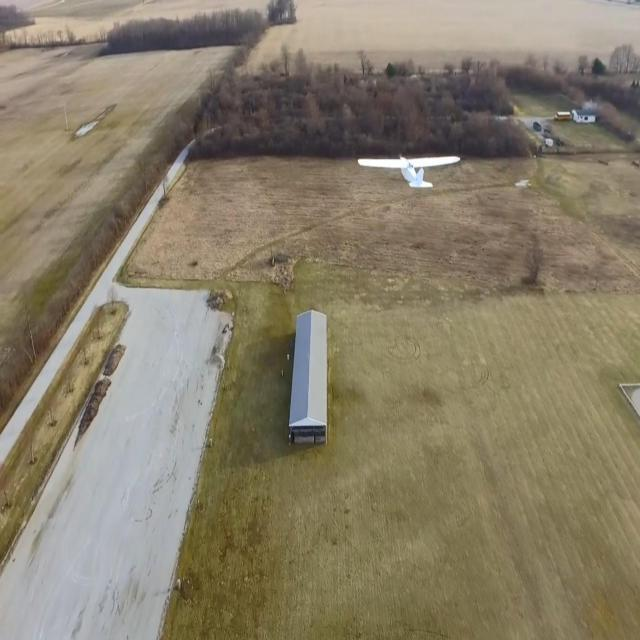iha: (386, 150, 430, 192)
